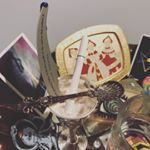other: (53, 39, 122, 96)
